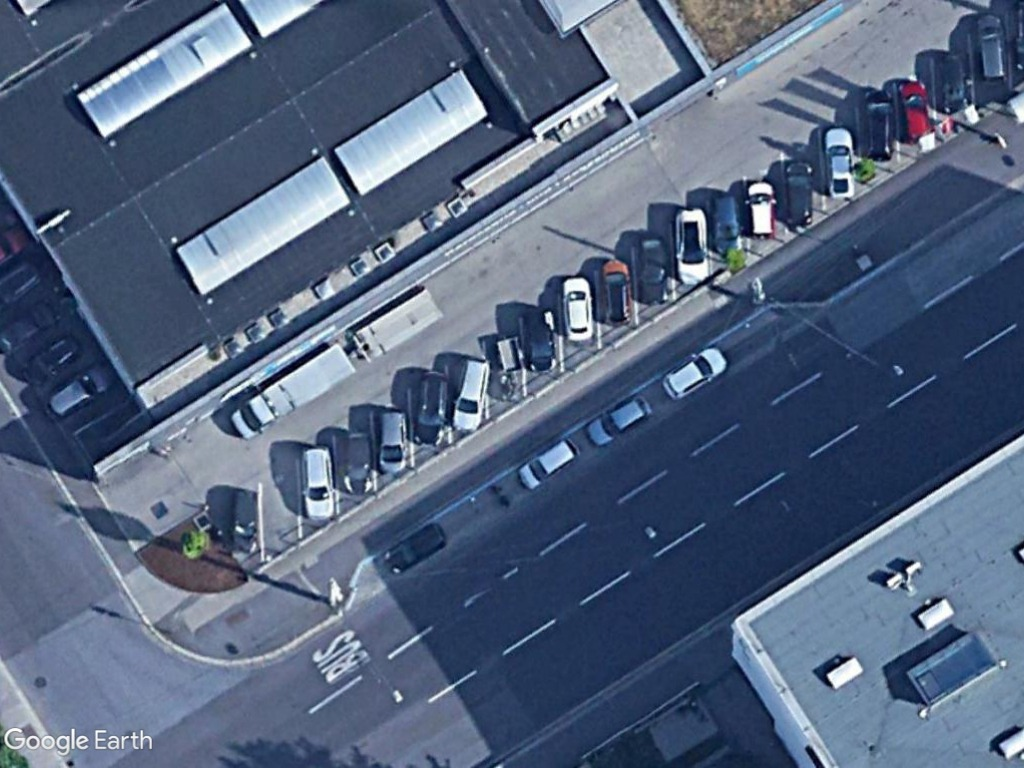car: (579, 392, 655, 449), (511, 435, 582, 496), (42, 363, 118, 419), (380, 518, 448, 579), (660, 342, 729, 400), (446, 354, 494, 437), (817, 120, 860, 203), (298, 440, 336, 528), (972, 8, 1013, 88), (672, 207, 712, 288), (412, 368, 451, 451), (518, 307, 560, 375), (632, 229, 669, 306), (598, 253, 636, 327), (558, 270, 594, 345), (341, 420, 376, 495), (780, 155, 815, 230), (896, 75, 932, 146), (860, 88, 894, 162), (935, 48, 970, 118), (374, 404, 408, 476), (744, 177, 779, 245)
van: (226, 332, 368, 443)
